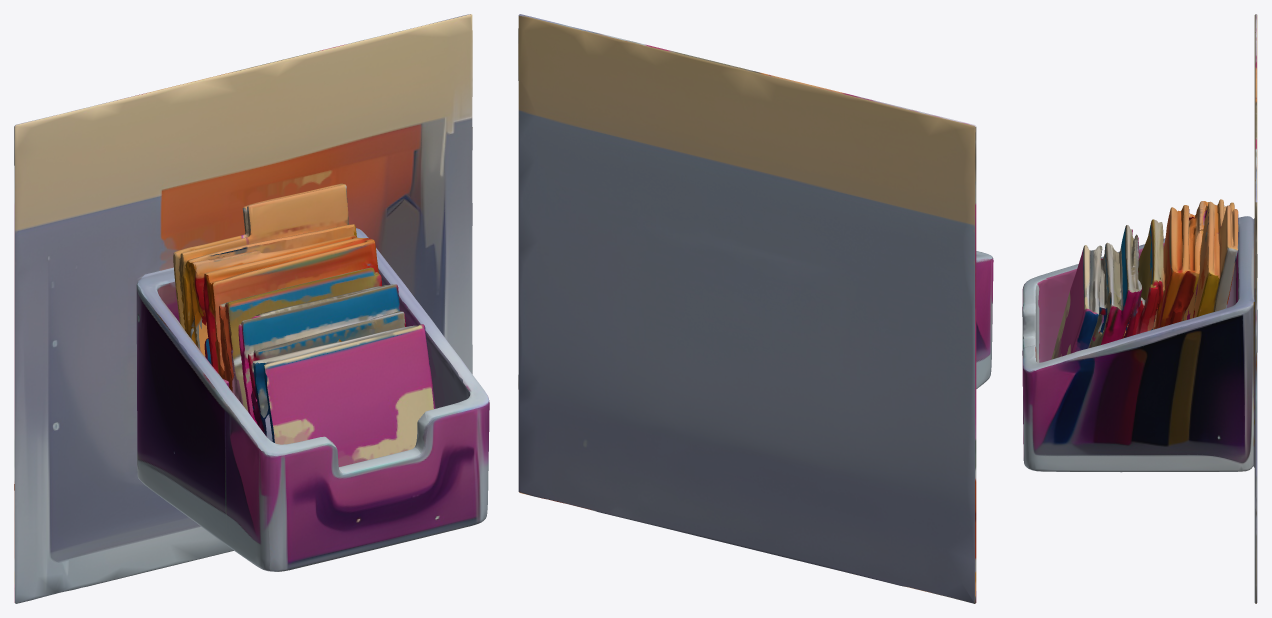
The model's file is FileOrganizer.glb.
The picture shows the model from 3 angles, left to right: view 1: azimuth 30°, elevation 25°; view 2: azimuth 150°, elevation 25°; view 3: azimuth 270°, elevation 25°; orthographic projection. The views are drawn at different scales.
Visible parts, largest first — view 1: FileOrganizer; view 2: FileOrganizer; view 3: FileOrganizer.
Boxes of the visible parts, x1,y1,x2,y2 form: FileOrganizer: (14, 14, 489, 603); FileOrganizer: (518, 14, 993, 603); FileOrganizer: (1022, 14, 1257, 603).
Size of the model in its own units: 1.99 by 1.99 by 1.05.
1 material, 1 textured.
